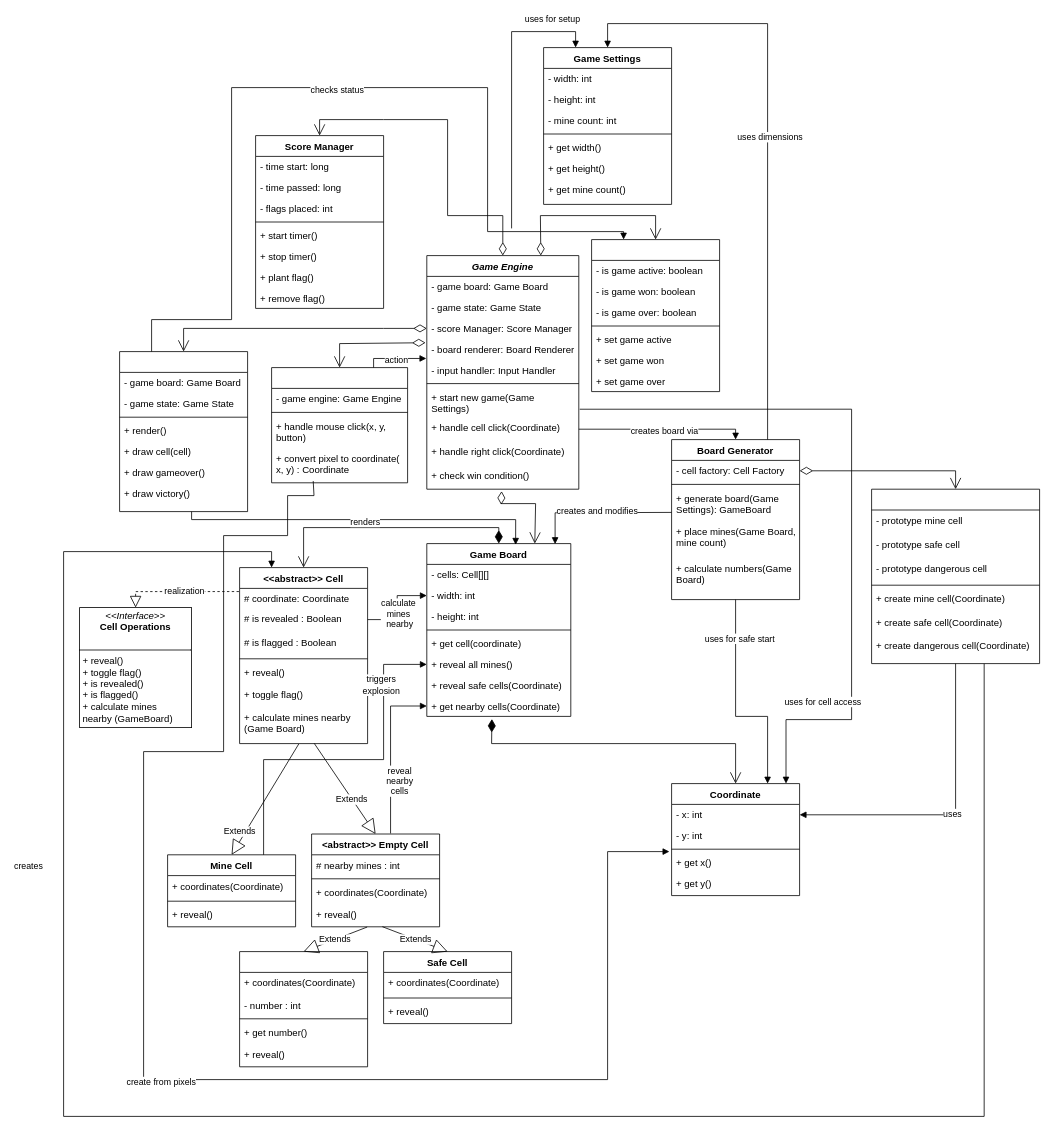
The diagram is 1054 pixels wide and 1137 high, and some of its shapes have lost their labels. Here are the shapes that lost their labels. From the top down, the box of each, then its label:
(591, 239, 720, 392): Game State
(119, 351, 248, 512): Board Renderer
(271, 367, 408, 483): Input Handler
(871, 488, 1040, 664): Cell Factory
(239, 951, 368, 1067): Dangerous Cell
